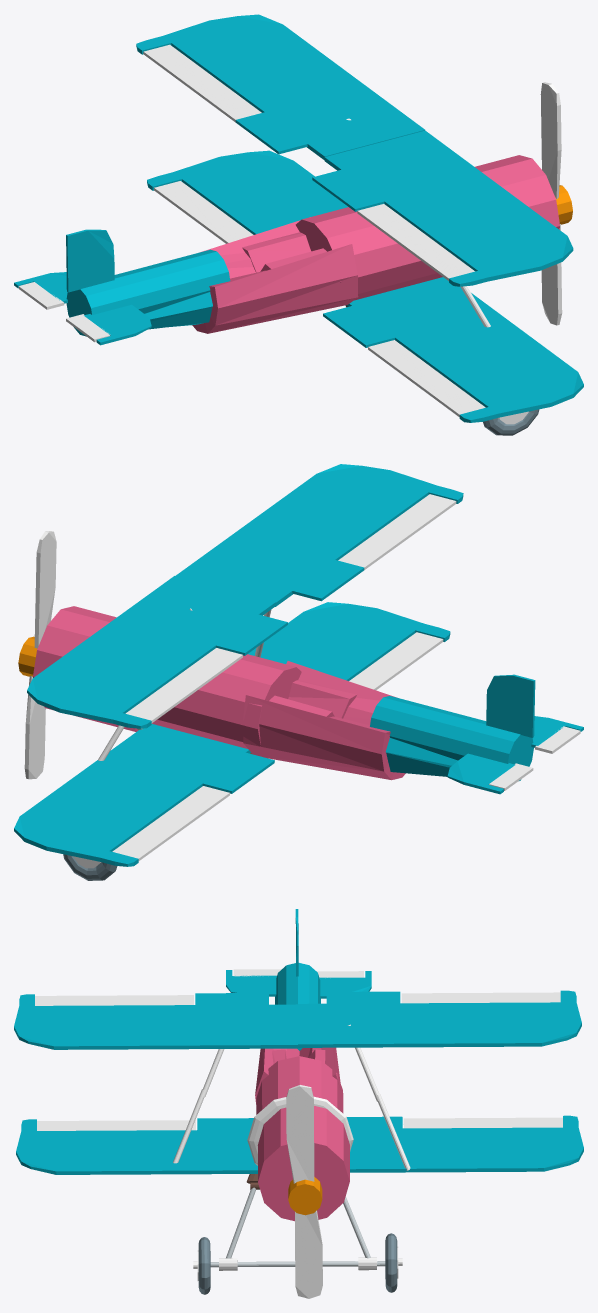
File: Airplane2.fbx
The picture shows the model from 3 angles, top to bottom: view 1: azimuth 30°, elevation 25°; view 2: azimuth 150°, elevation 25°; view 3: azimuth 270°, elevation 25°; orthographic projection. The views are drawn at different scales.
Visible parts, largest first — view 1: group_15226713; view 2: group_15226713; view 3: group_15226713.
Boxes of the visible parts, bbox=[...] form: group_15226713: bbox=[14, 14, 583, 435]; group_15226713: bbox=[14, 464, 583, 880]; group_15226713: bbox=[14, 909, 583, 1298].
Bounding box in the file's own units: 385 × 207 × 434.
